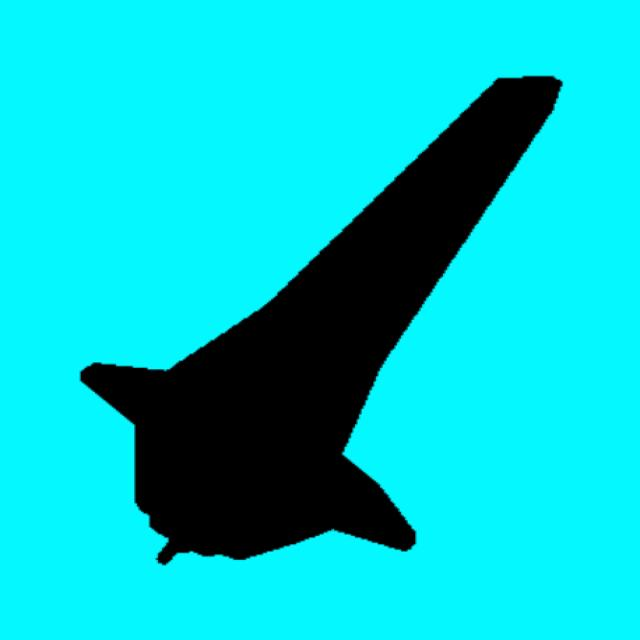BlackBuoy: (81, 79, 561, 562)
